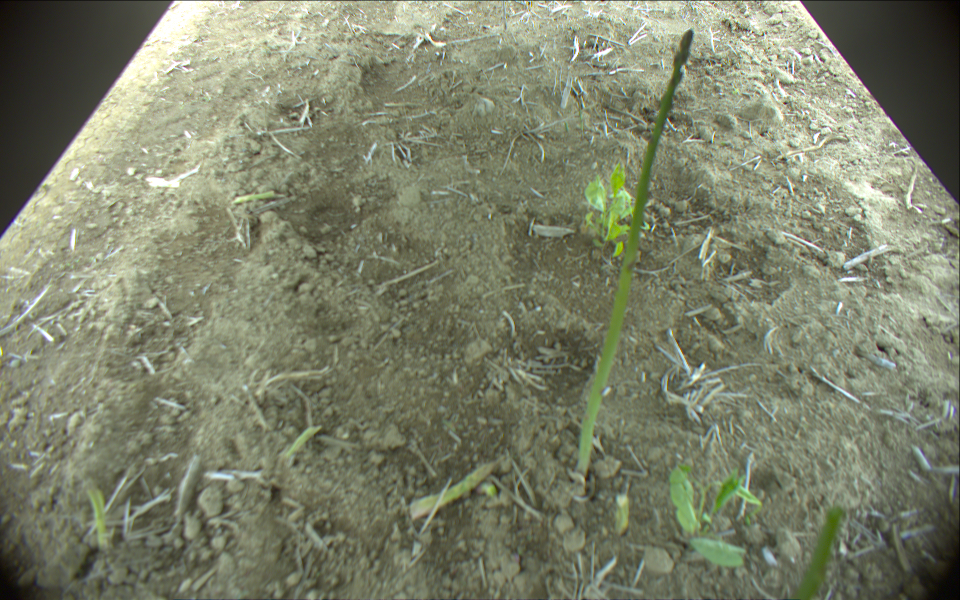aspa: (574, 27, 697, 480), (402, 459, 496, 524), (792, 506, 842, 600), (81, 482, 109, 561), (229, 189, 277, 203), (612, 493, 629, 532)
